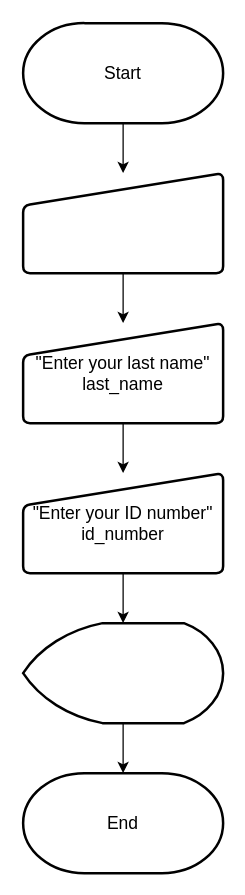
Some shapes in this 245 by 895 pixel diagram are drawn without their labels. Each missing label, with the centre of its shape:
"Enter your first name" first_name: pixel 122 222
first_name[0:3], last_name[0: 3], id_number[-4: -1]: pixel 122 672
